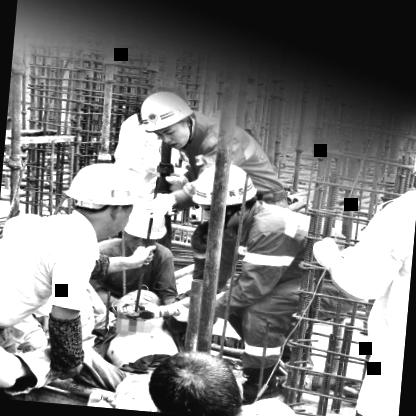helmet: (58, 158, 148, 240), (193, 162, 264, 230), (131, 84, 204, 150), (122, 201, 166, 255)
